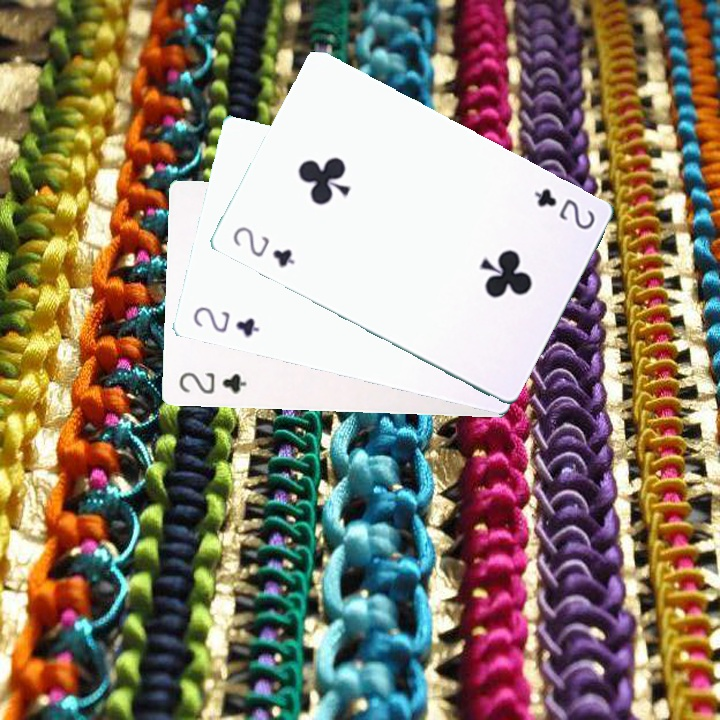2c: (228, 222, 298, 271), (529, 184, 598, 233), (189, 302, 263, 340), (175, 368, 249, 397)
